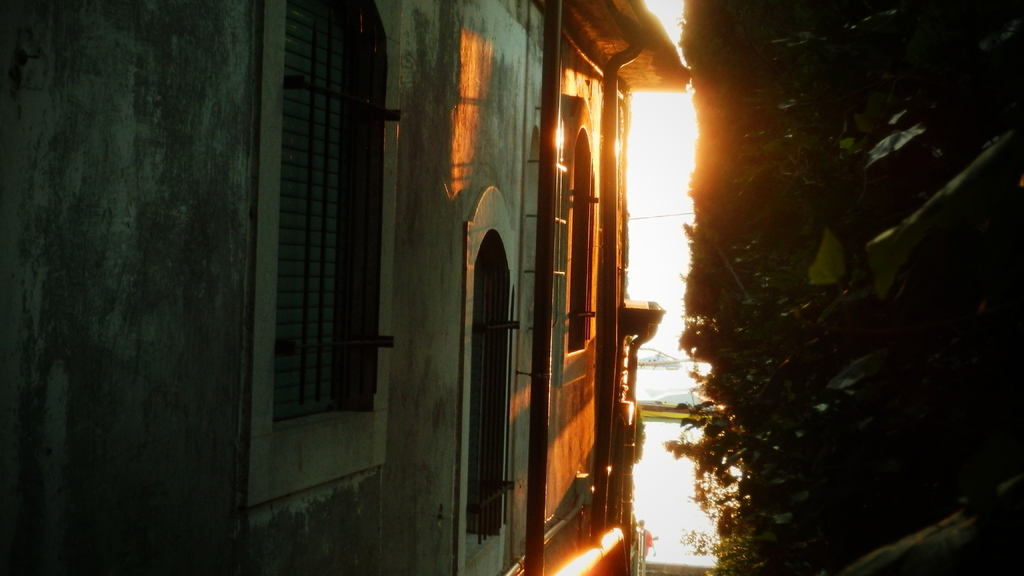Tree: (668, 12, 1023, 567)
